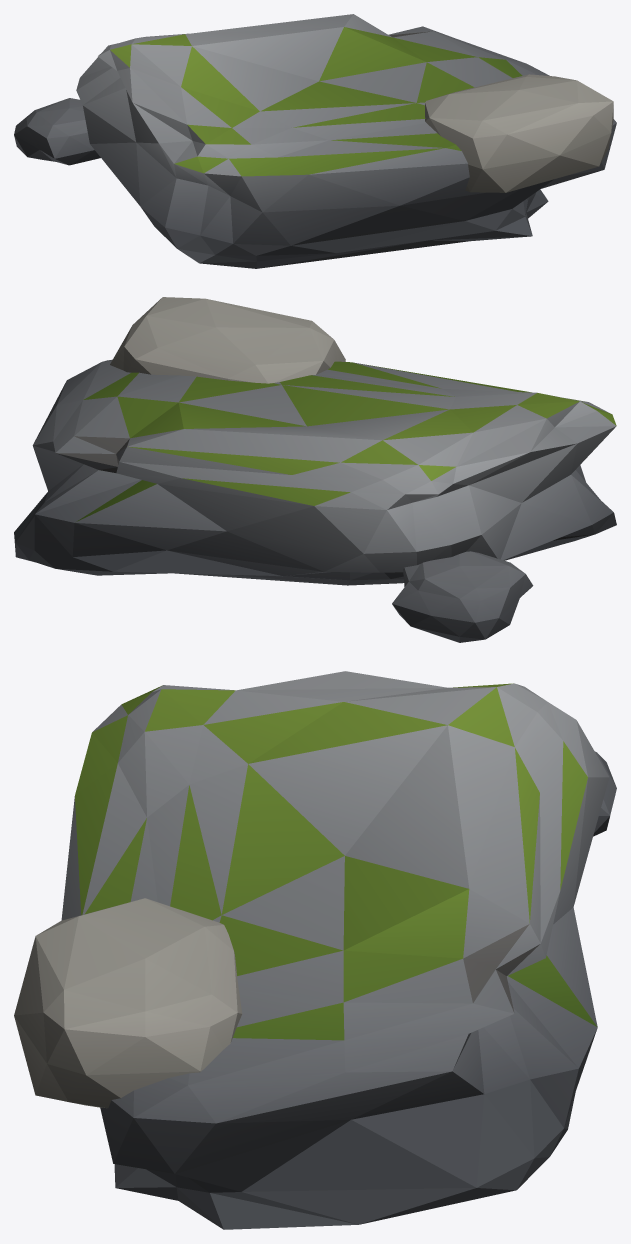
Rendered from Rock_Slab.fbx.
3 renders of one model, top to bottom at view 1: azimuth 30°, elevation 25°; view 2: azimuth 150°, elevation 25°; view 3: azimuth 270°, elevation 25°, orthographic. The views are drawn at different scales.
Visible parts, largest first — view 1: Rock_Slab_LOD0; view 2: Rock_Slab_LOD0; view 3: Rock_Slab_LOD0.
Part boxes in pixels (box(x1,y1,x2,y2)): Rock_Slab_LOD0: box(14, 14, 616, 268); Rock_Slab_LOD0: box(14, 297, 616, 642); Rock_Slab_LOD0: box(14, 671, 616, 1229).
Size of what is drawn, in the model's own units: 4.2 by 1.5 by 2.89.
1 material, 1 textured.
